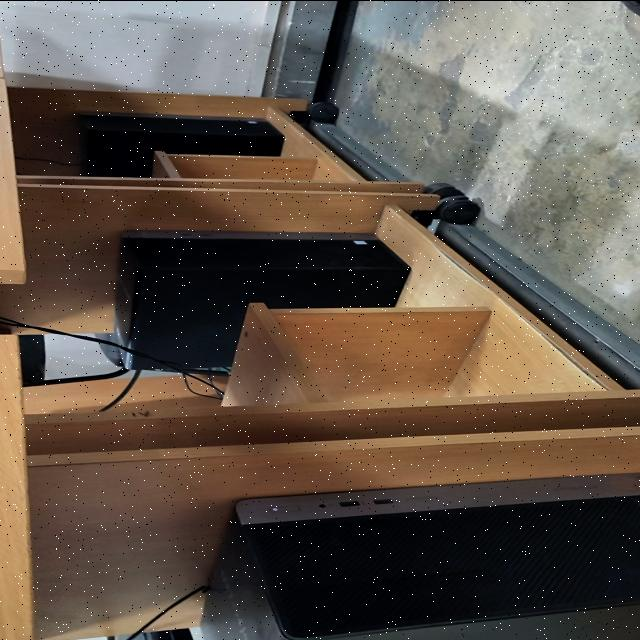Cpu: (202, 472, 640, 640), (115, 230, 410, 368), (81, 114, 284, 175)
